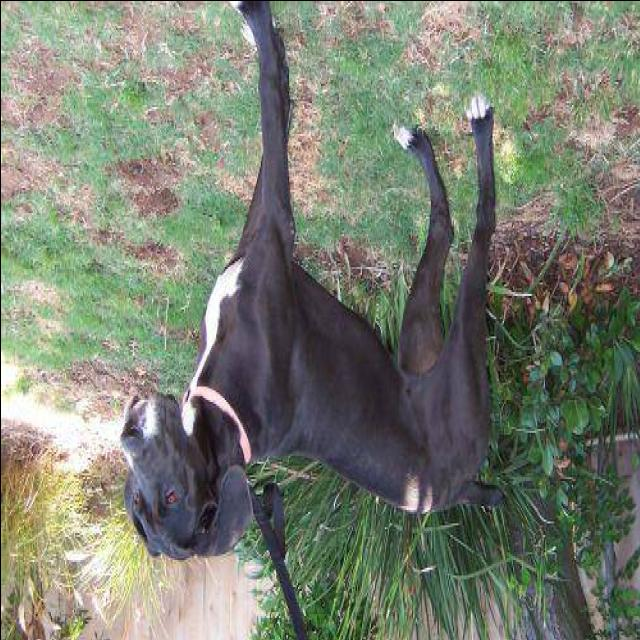dog: (109, 1, 542, 590)
